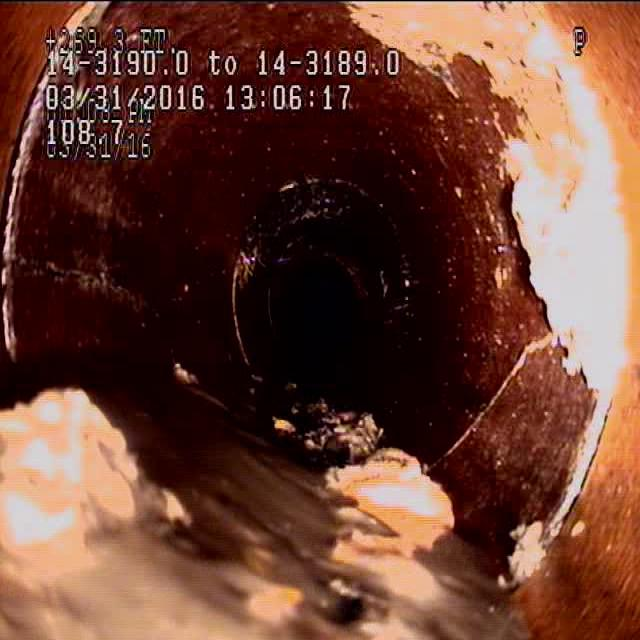Crack: (430, 233, 578, 465)
